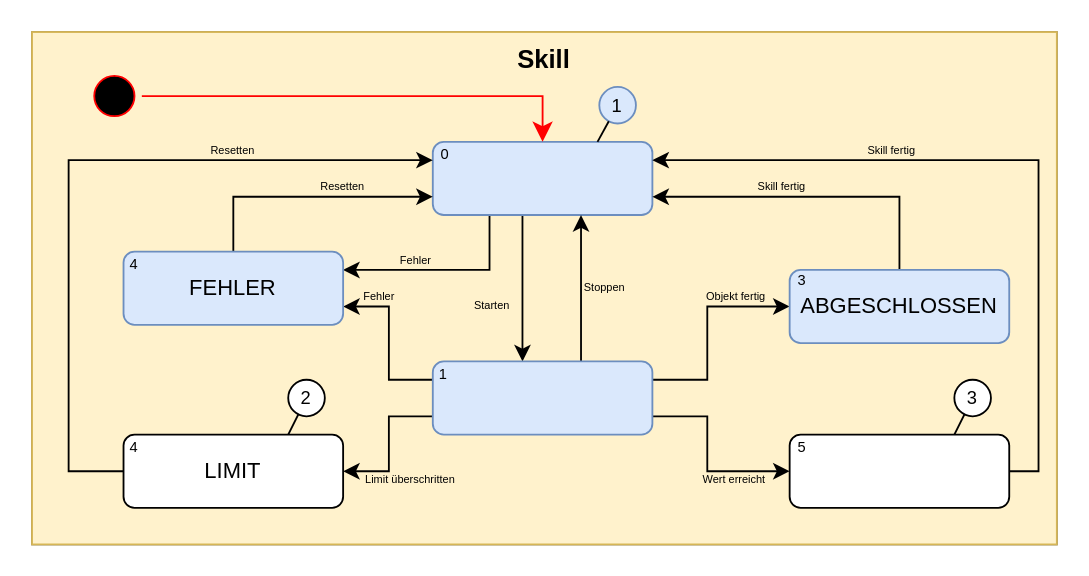
Some shapes in this 1089 by 576 pixel diagram are drawn without their labels. The shapes that lost their labels are listed below. From the top down, each one's box as (x1, y1, x2, y2) in pixels, then its label:
(431, 140, 652, 215): BEREIT
(431, 360, 652, 435): LAUFEND
(788, 433, 1009, 508): ERREICHT
